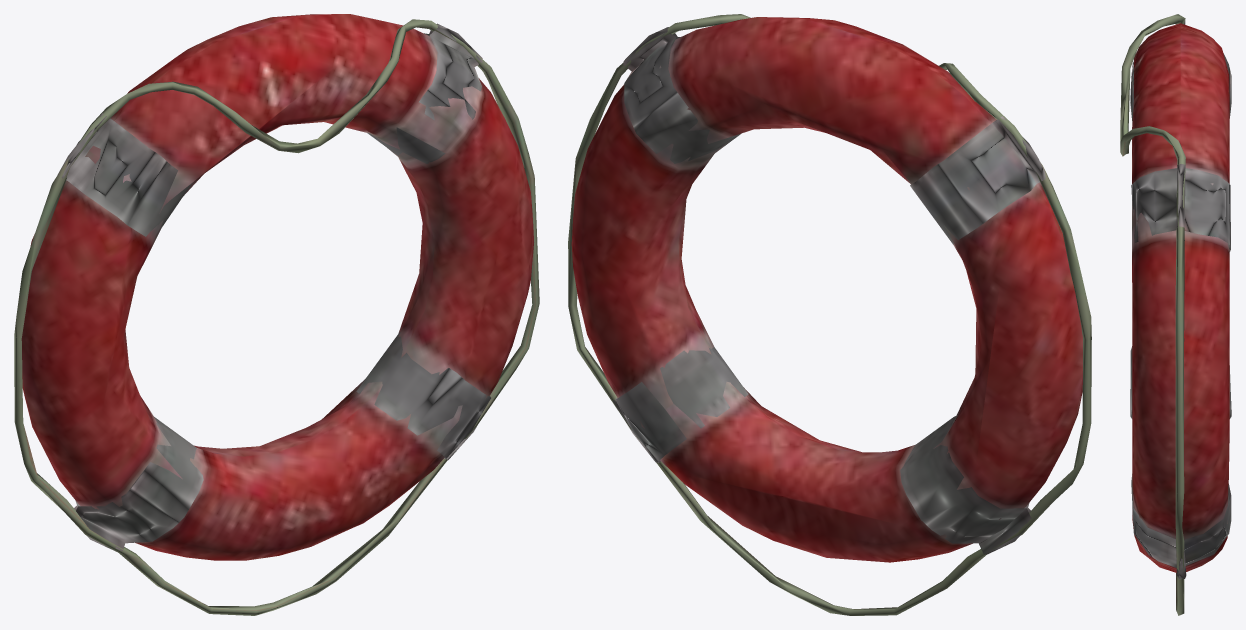
File: lifebuoy.lite.f8446146.glb
The picture shows the model from 3 angles, left to right: view 1: azimuth 30°, elevation 25°; view 2: azimuth 150°, elevation 25°; view 3: azimuth 270°, elevation 25°; orthographic projection. The views are drawn at different scales.
Parts seen in each view (by area): view 1: model; view 2: model; view 3: model.
Boxes of the visible parts, x1,y1,x2,y2 form: model: (14, 14, 539, 615); model: (568, 14, 1091, 615); model: (1120, 14, 1231, 615).
Bounding box in the file's own units: 0.7809 × 0.8396 × 0.1534.
Materials: 1 (1 with a texture image).
